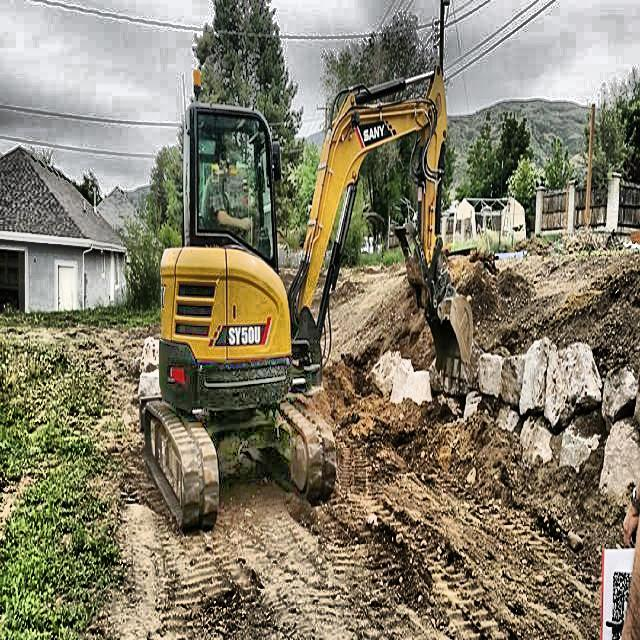excavator: (138, 64, 478, 536)
